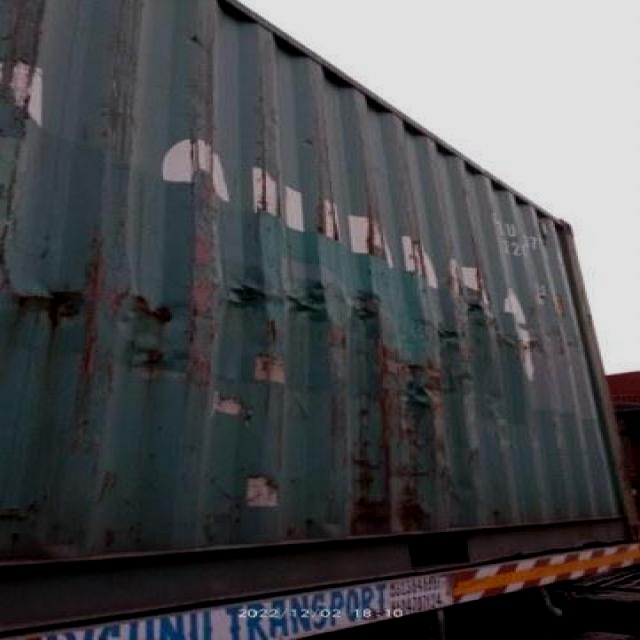Rusty: (134, 271, 200, 355), (365, 485, 443, 540), (331, 295, 391, 351), (383, 369, 440, 423), (31, 277, 86, 331), (233, 282, 299, 304), (438, 317, 471, 356)
